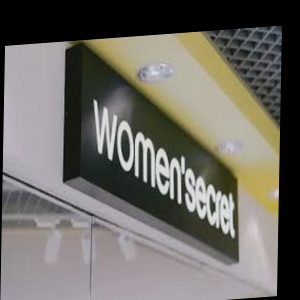women_secret: (195, 181, 279, 241)
